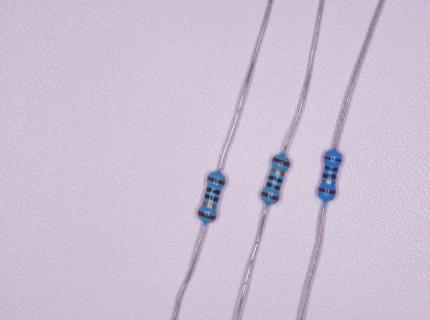Black band: (265, 181, 281, 191), (204, 193, 220, 202), (268, 175, 283, 184), (206, 186, 221, 195), (324, 165, 339, 172), (322, 173, 337, 179)
Brown band: (197, 209, 216, 221), (271, 156, 291, 167), (261, 191, 280, 202), (207, 176, 226, 186), (318, 186, 337, 194), (323, 155, 342, 162)
Gold band: (202, 201, 217, 209), (270, 168, 285, 176), (322, 179, 336, 185)
